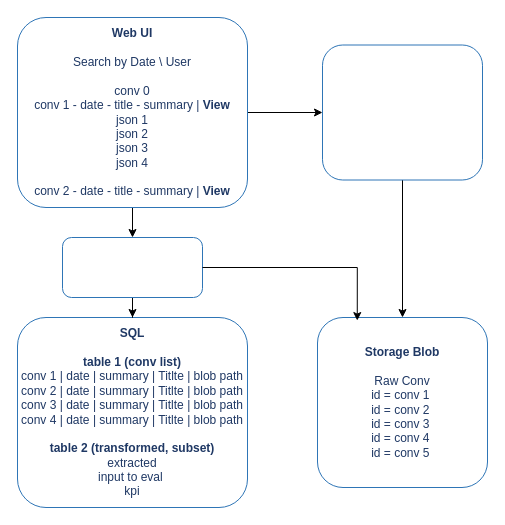
The diagram is 505 pixels wide and 525 high, and some of its shapes have lost their labels. The shapes that lost their labels are listed below. From the top down, each one's box as (x1, y1, x2, y2) in pixels, then its label:
(322, 44, 482, 180): Detail View Raw { }
(62, 236, 202, 298): Python Fast API
